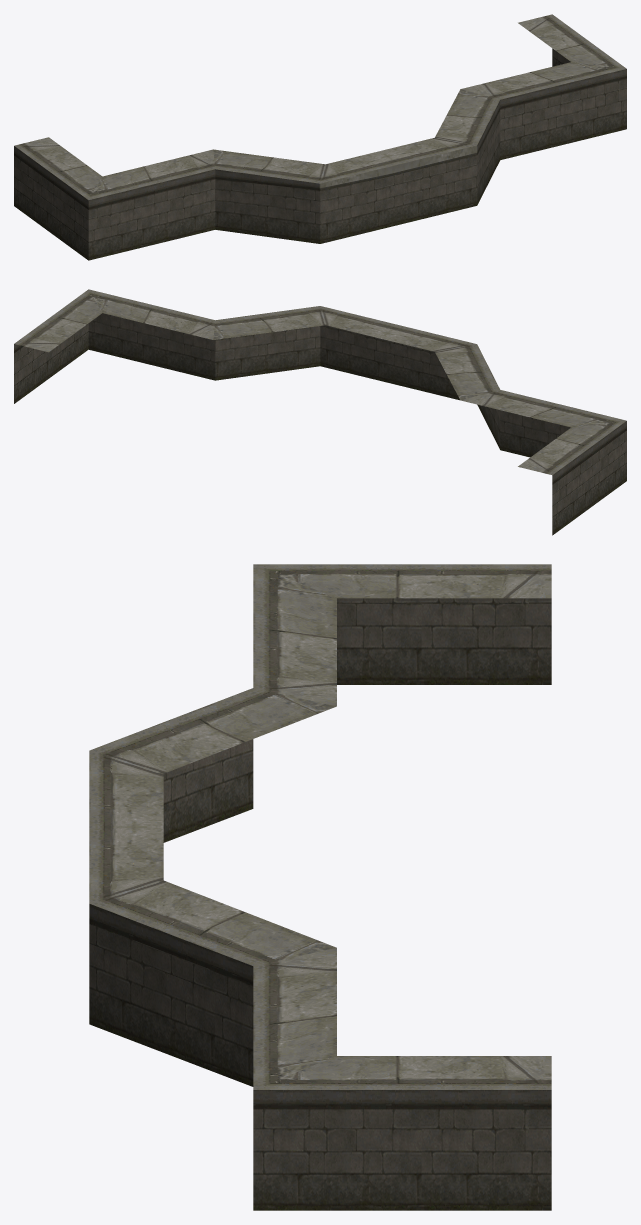
Rendered from xsz_diji_1.FBX.
The picture shows the model from 3 angles, top to bottom: view 1: azimuth 30°, elevation 25°; view 2: azimuth 150°, elevation 25°; view 3: azimuth 270°, elevation 25°; orthographic projection. The views are drawn at different scales.
Parts seen in each view (by area): view 1: xsz_diji_1; view 2: xsz_diji_1; view 3: xsz_diji_1.
Boxes of the visible parts, bbox=[...] form: xsz_diji_1: bbox=[14, 14, 626, 260]; xsz_diji_1: bbox=[14, 289, 626, 535]; xsz_diji_1: bbox=[89, 564, 551, 1210].
Bounding box in the file's own units: 3051 × 327 × 1134.
